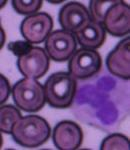N: (70, 68, 130, 132)
